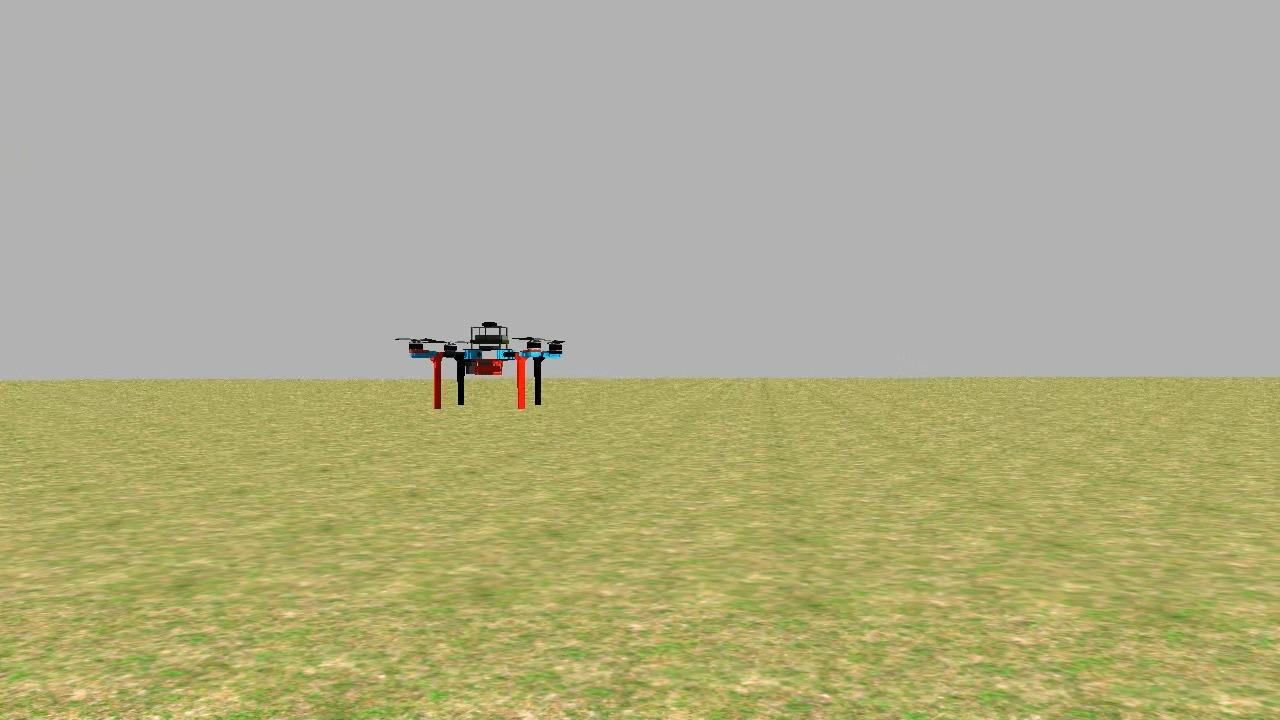UAV: (402, 297, 571, 426)
